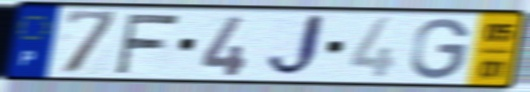4: (197, 12, 250, 79), (346, 15, 399, 81)
7: (60, 9, 121, 77)
F: (112, 12, 184, 76)
G: (408, 17, 473, 82)
J: (262, 12, 329, 82)
